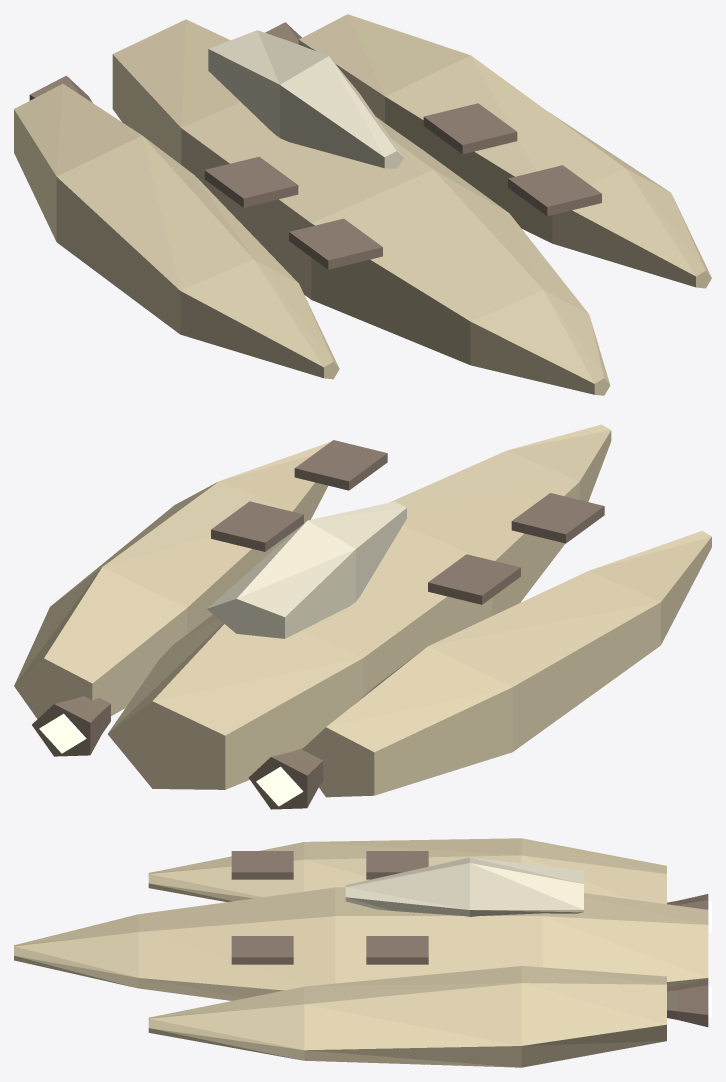
The picture shows the model from 3 angles, top to bottom: view 1: azimuth 30°, elevation 25°; view 2: azimuth 150°, elevation 25°; view 3: azimuth 270°, elevation 25°; orthographic projection. The views are drawn at different scales.
Bounding box in the file's own units: 9.96 × 3.5 × 15.4.
